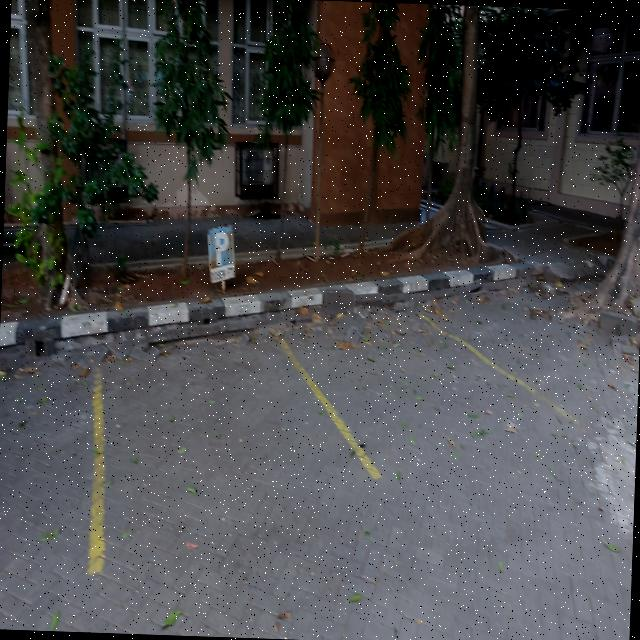empty: (88, 332, 375, 572), (282, 313, 577, 475)
